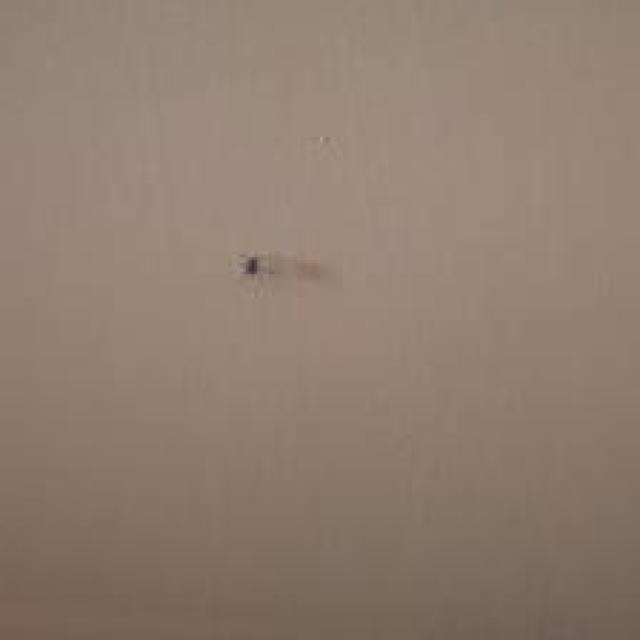Culex: (240, 254, 260, 277)
